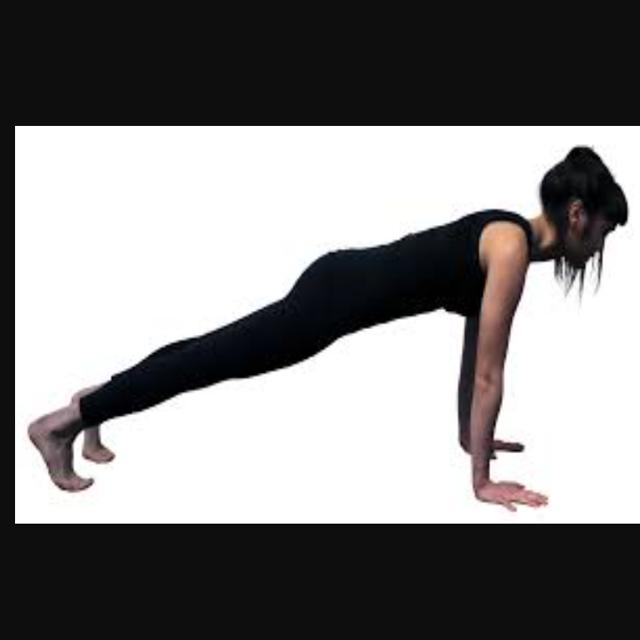Plank_Pose: (28, 143, 627, 504)
